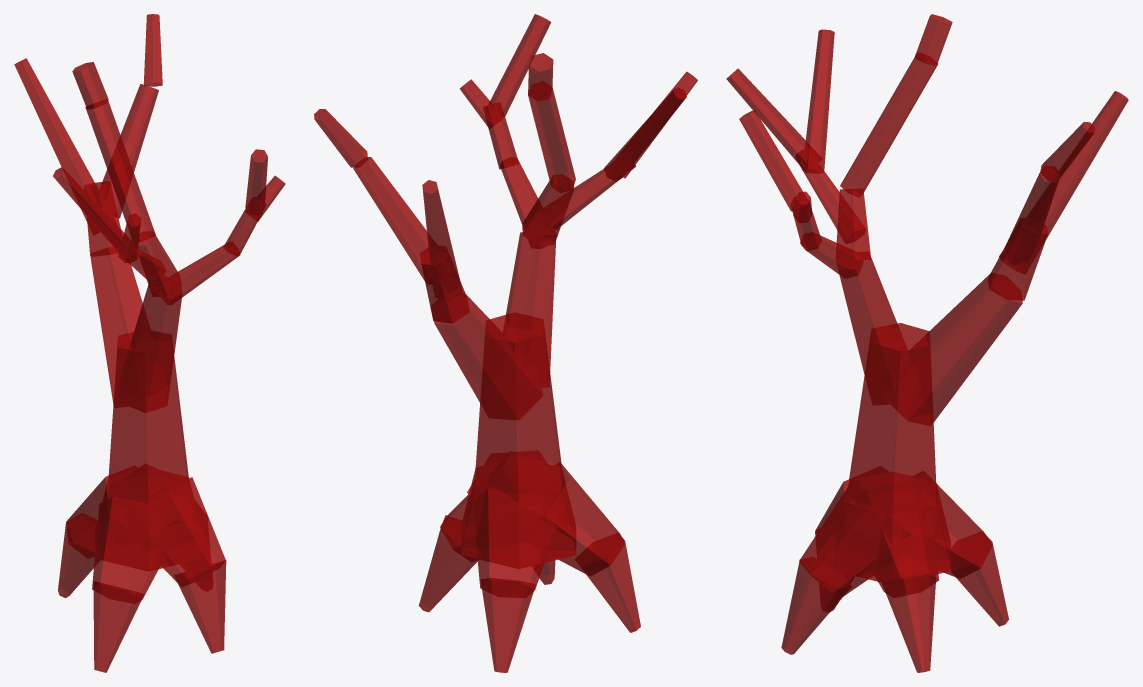
Rendered from SM_Env_Tree_Fruit_01_Collision.fbx.
3 views of the same model, side by side, from view 1: azimuth 30°, elevation 25°; view 2: azimuth 150°, elevation 25°; view 3: azimuth 270°, elevation 25° (orthographic). The views are drawn at different scales.
Visible parts, largest first — view 1: SM_Env_Tree_Fruit_01_Collision; view 2: SM_Env_Tree_Fruit_01_Collision; view 3: SM_Env_Tree_Fruit_01_Collision.
Part boxes in pixels (left/top/right/bottom): SM_Env_Tree_Fruit_01_Collision: left=14, top=14, right=285, bottom=672; SM_Env_Tree_Fruit_01_Collision: left=314, top=14, right=697, bottom=672; SM_Env_Tree_Fruit_01_Collision: left=726, top=14, right=1128, bottom=672.
Size of the model in its own units: 125 by 300 by 178.
